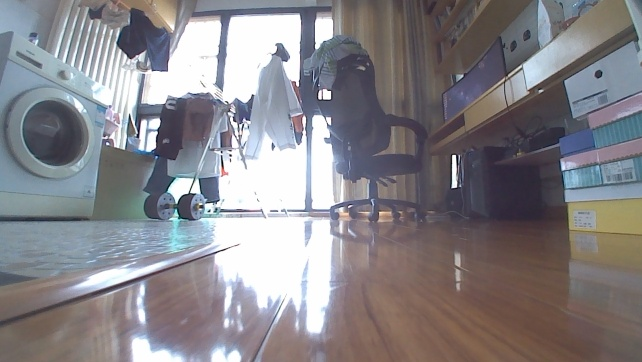washing_machine: (0, 28, 115, 223)
wire: (501, 72, 524, 136)
